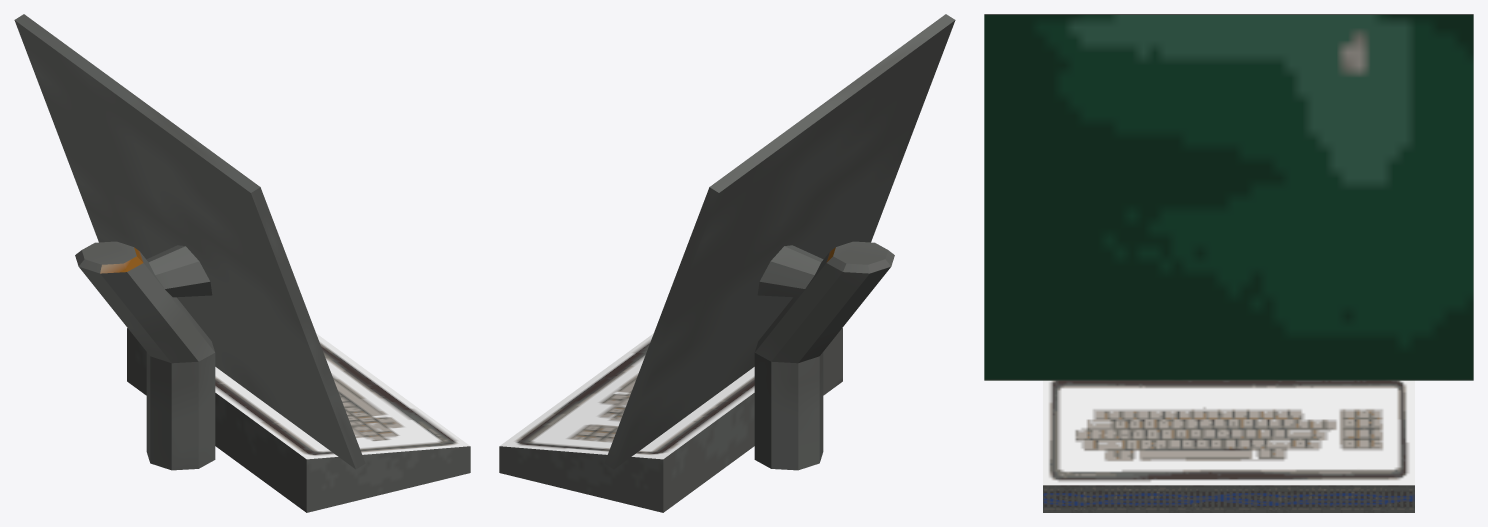
File: Computer.glb
3 views of the same model, side by side, from view 1: azimuth 30°, elevation 25°; view 2: azimuth 150°, elevation 25°; view 3: azimuth 270°, elevation 25° (orthographic). The views are drawn at different scales.
Parts seen in each view (by area): view 1: Computer; view 2: Computer; view 3: Computer.
Boxes of the visible parts, x1,y1,x2,y2 form: Computer: (14, 14, 470, 512); Computer: (499, 14, 955, 512); Computer: (984, 14, 1473, 512).
Bounding box in the file's own units: 0.7375 × 0.8511 × 1.
Materials: 1 (1 with a texture image).
